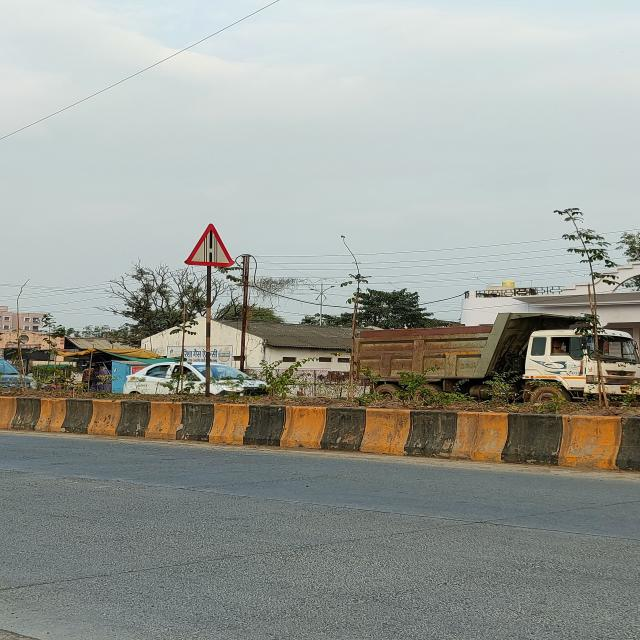ferry: (183, 223, 237, 268)
